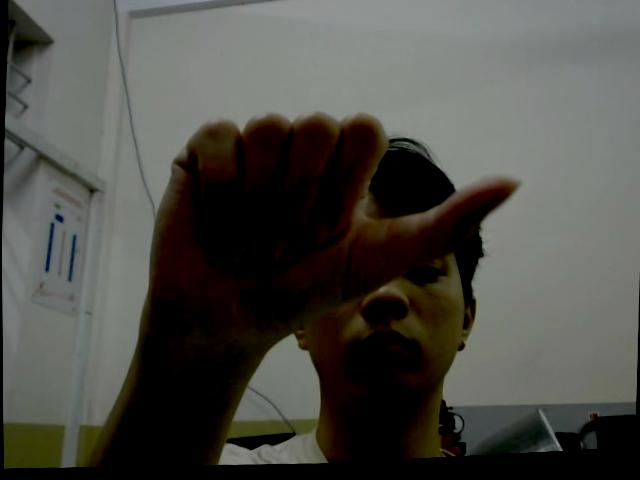A: (146, 100, 524, 339)
